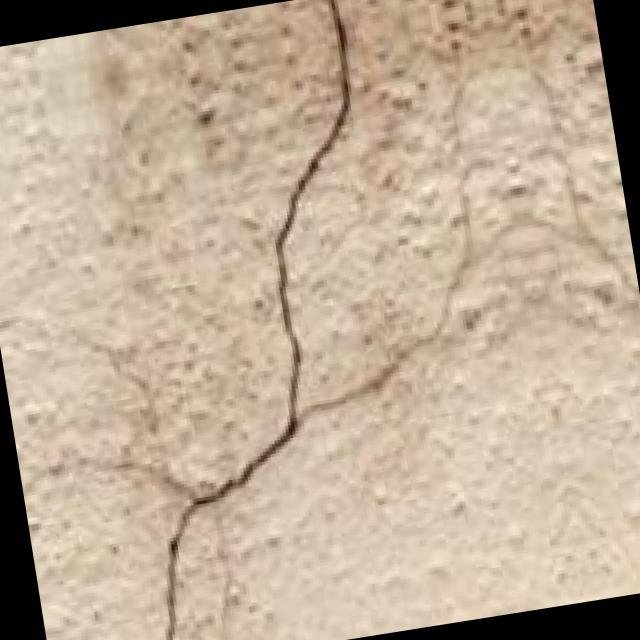crack: (32, 0, 454, 640)
